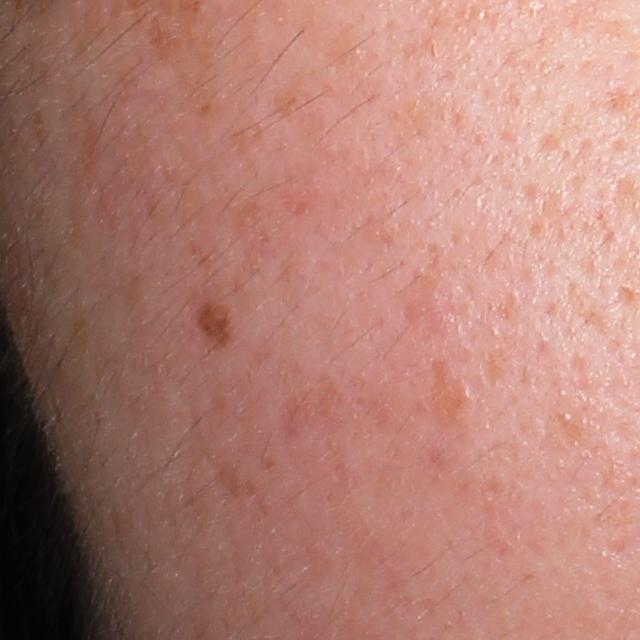melasma: (265, 54, 324, 121), (194, 295, 236, 357)
